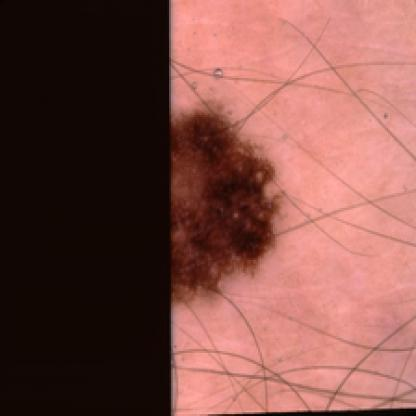malignant: (171, 108, 282, 293)
